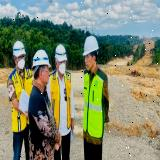Helmet: (32, 48, 51, 68), (83, 36, 99, 56), (13, 40, 27, 56), (55, 44, 67, 62)
Vest: (8, 66, 32, 130), (84, 69, 105, 138), (50, 70, 70, 132)
